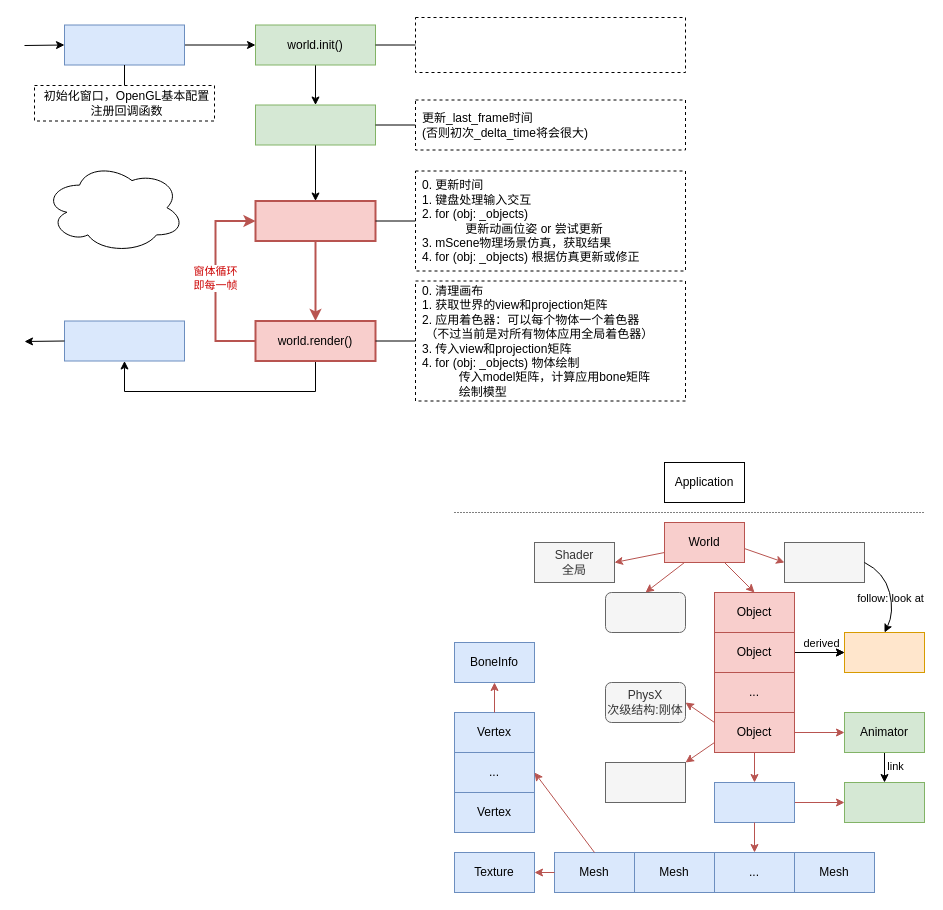
This 943x910 diagram has some shape labels left out. Here are the shapes that lost their labels. From the top down, the centre of each, then its label:
point 124,44: APP->init()
point 550,44: 0. 设置时间、相机、光线 1. PhysX初始化 2. 导入模型与相应配置
point 315,124: world.start()
point 114,207: 主干逻辑
point 315,221: world.update()
point 124,340: APP->destroy()
point 824,562: Camera
point 645,612: PhysX 总结构
point 884,652: Player
point 645,782: Shader 独立
point 754,802: Model
point 884,802: Animation
